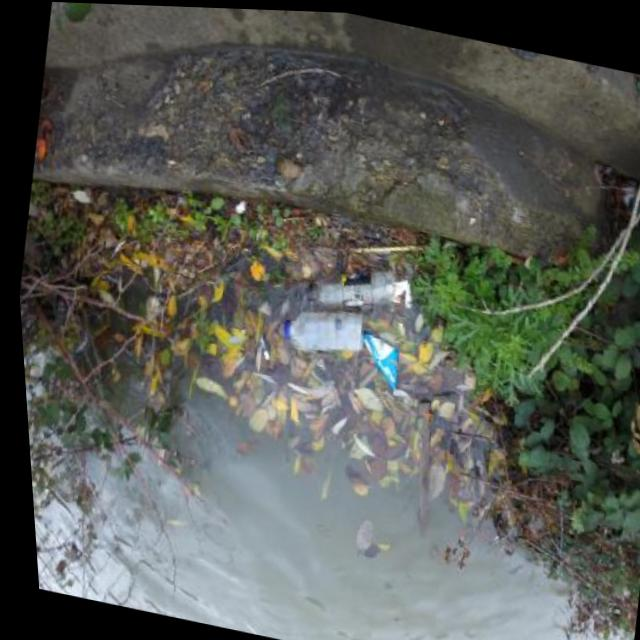plastic: (300, 254, 400, 319), (278, 295, 370, 364), (354, 332, 405, 392)
